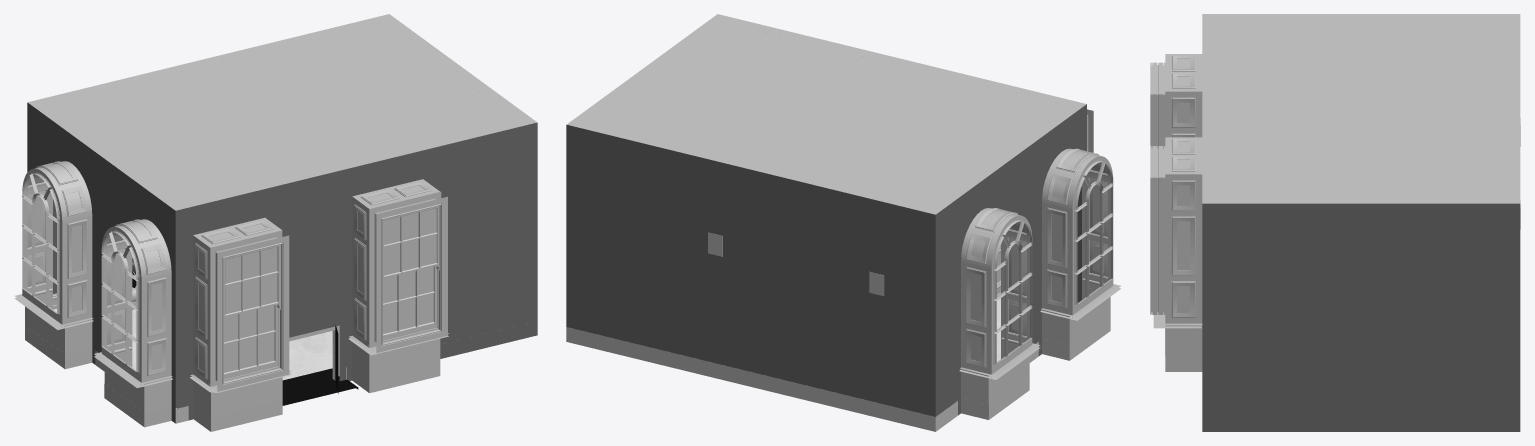
The model's file is Grey_White_Room.obj.
3 renders of one model, left to right at view 1: azimuth 30°, elevation 25°; view 2: azimuth 150°, elevation 25°; view 3: azimuth 270°, elevation 25°, orthographic. The views are drawn at different scales.
Parts seen in each view (by area): view 1: Walls,_Ceiling_&_Floor_Cube.001_Paint_-_Grey_Matt, Walls,_Ceiling_&_Floor_Cube.001_Paint_-_White_Matt, Window_Surround_03_Cube.008_Paint_-_White_Gloss, Window_Surround_04_Cube.023_Paint_-_White_Gloss, Walls,_Ceiling_&_Floor_Cube.001_Paint_-_White_Gloss, Window_Surround_02_Cube.020_Paint_-_White_Gloss, Window_Surround_01_Cube.016_Paint_-_White_Gloss, Coving_Mesh_Paint_-_White_Gloss, Skirting_Mesh.001_Paint_-_White_Gloss, Glass_02_-_Top_Cube.018_Glass_-_Architectural, Glass_01_-_Top_Cube.009_Glass_-_Architectural, Glass_02_-_Botto_Cube.014_Glass_-_Architectural (+8 smaller); view 2: Walls,_Ceiling_&_Floor_Cube.001_Paint_-_Grey_Matt, Walls,_Ceiling_&_Floor_Cube.001_Paint_-_White_Matt, Window_Surround_03_Cube.008_Paint_-_White_Gloss, Window_Surround_04_Cube.023_Paint_-_White_Gloss, Coving_Mesh_Paint_-_White_Gloss, Skirting_Mesh.001_Paint_-_White_Gloss, Walls,_Ceiling_&_Floor_Cube.001_Paint_-_White_Gloss; view 3: Walls,_Ceiling_&_Floor_Cube.001_Paint_-_Grey_Matt, Walls,_Ceiling_&_Floor_Cube.001_Paint_-_White_Matt, Window_Surround_01_Cube.016_Paint_-_White_Gloss, Coving_Mesh_Paint_-_White_Gloss, Window_Surround_02_Cube.020_Paint_-_White_Gloss, Walls,_Ceiling_&_Floor_Cube.001_Paint_-_White_Gloss.
Part boxes in pixels (x1,y1,x2,y2): Walls,_Ceiling_&_Floor_Cube.001_Paint_-_Grey_Matt: (27, 102, 537, 423); Walls,_Ceiling_&_Floor_Cube.001_Paint_-_White_Matt: (46, 22, 518, 202); Window_Surround_03_Cube.008_Paint_-_White_Gloss: (94, 219, 177, 423); Window_Surround_04_Cube.023_Paint_-_White_Gloss: (14, 161, 93, 329); Walls,_Ceiling_&_Floor_Cube.001_Paint_-_White_Gloss: (25, 291, 440, 431); Window_Surround_02_Cube.020_Paint_-_White_Gloss: (190, 217, 291, 392); Window_Surround_01_Cube.016_Paint_-_White_Gloss: (348, 179, 448, 355); Coving_Mesh_Paint_-_White_Gloss: (28, 14, 536, 210); Skirting_Mesh.001_Paint_-_White_Gloss: (25, 293, 346, 431); Glass_02_-_Top_Cube.018_Glass_-_Architectural: (225, 247, 277, 314); Glass_01_-_Top_Cube.009_Glass_-_Architectural: (384, 208, 436, 275); Glass_02_-_Botto_Cube.014_Glass_-_Architectural: (224, 305, 274, 372); Walls,_Ceiling_&_Floor_Cube.001_Paint_-_Grey_Matt: (566, 104, 1086, 416); Walls,_Ceiling_&_Floor_Cube.001_Paint_-_White_Matt: (586, 22, 1067, 206); Window_Surround_03_Cube.008_Paint_-_White_Gloss: (1040, 148, 1121, 320); Window_Surround_04_Cube.023_Paint_-_White_Gloss: (959, 208, 1040, 379); Coving_Mesh_Paint_-_White_Gloss: (567, 14, 1086, 214); Skirting_Mesh.001_Paint_-_White_Gloss: (566, 280, 1110, 431); Walls,_Ceiling_&_Floor_Cube.001_Paint_-_White_Gloss: (961, 252, 1110, 404); Walls,_Ceiling_&_Floor_Cube.001_Paint_-_Grey_Matt: (1202, 203, 1520, 431); Walls,_Ceiling_&_Floor_Cube.001_Paint_-_White_Matt: (1202, 20, 1519, 203); Window_Surround_01_Cube.016_Paint_-_White_Gloss: (1150, 137, 1202, 328); Coving_Mesh_Paint_-_White_Gloss: (1202, 14, 1520, 203); Window_Surround_02_Cube.020_Paint_-_White_Gloss: (1150, 54, 1202, 148); Walls,_Ceiling_&_Floor_Cube.001_Paint_-_White_Gloss: (1165, 325, 1202, 371).
Size of the model in its own units: 5.64 by 2.88 by 4.23.
